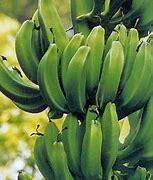banana: (5, 16, 153, 106), (22, 107, 153, 178), (79, 19, 148, 106), (39, 28, 89, 100), (34, 117, 82, 180), (85, 104, 123, 177)
